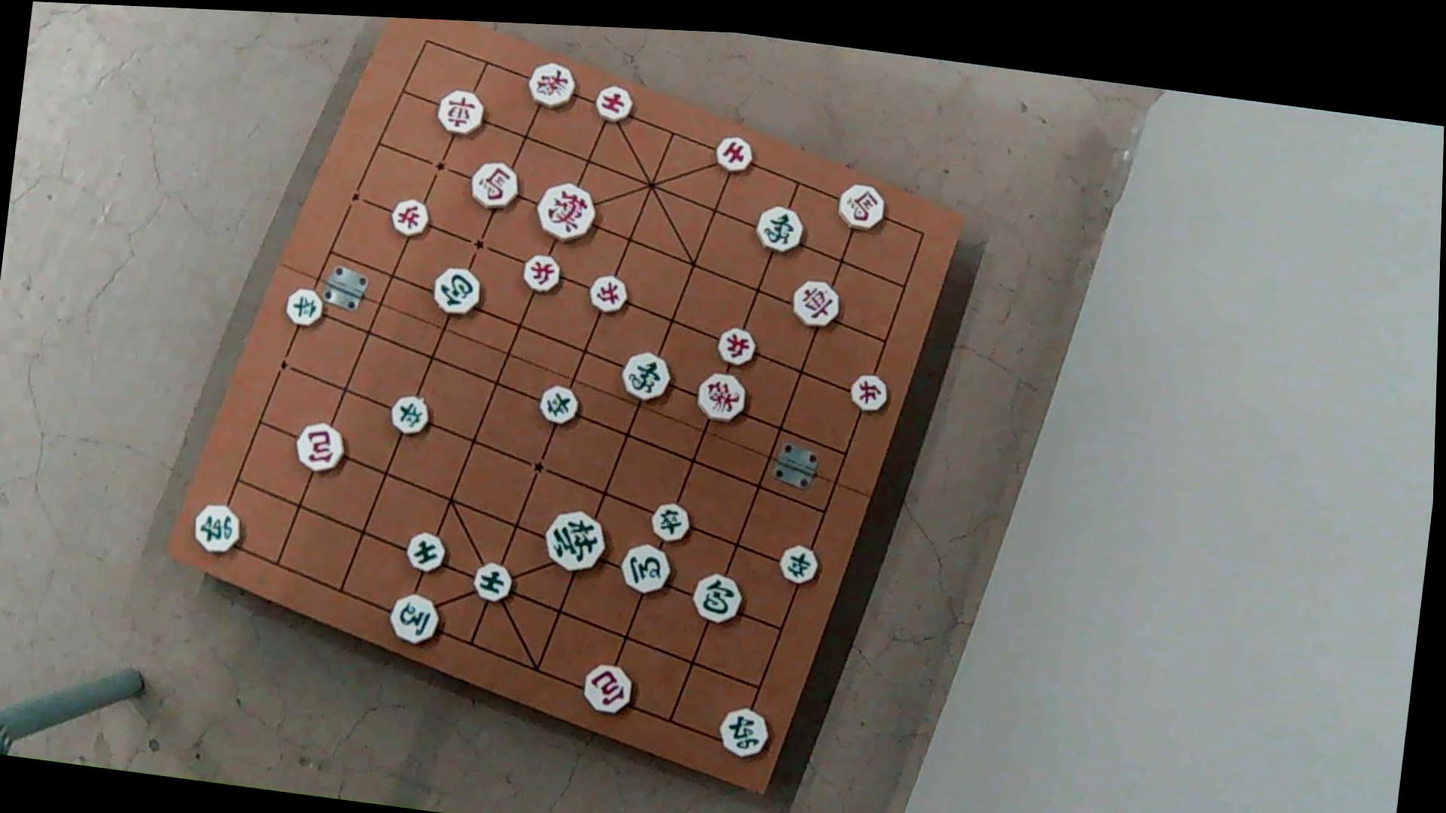cha_green: (191, 504, 244, 558), (718, 705, 771, 759)
cha_red: (790, 278, 842, 330), (435, 88, 485, 136)
jol_green: (390, 393, 432, 436), (537, 385, 579, 428), (650, 501, 691, 544), (778, 543, 819, 585), (285, 286, 326, 327)
jol_red: (715, 326, 758, 367), (389, 197, 430, 239), (523, 252, 564, 293), (589, 273, 629, 315), (850, 373, 889, 413)
ma_green: (388, 593, 441, 647), (621, 542, 673, 596)
ma_red: (470, 161, 520, 213), (837, 184, 886, 233)
po_green: (692, 570, 744, 623), (433, 265, 485, 317)
po_red: (581, 662, 634, 717), (293, 420, 346, 474)
sa_green: (407, 529, 450, 573), (471, 559, 512, 601)
sa_red: (715, 135, 755, 175), (594, 84, 633, 124)
sang_green: (620, 350, 673, 403), (756, 205, 808, 255)
sang_red: (696, 370, 747, 422), (527, 59, 578, 108)
wang_green: (545, 508, 609, 574)
wang_red: (537, 181, 599, 245)
